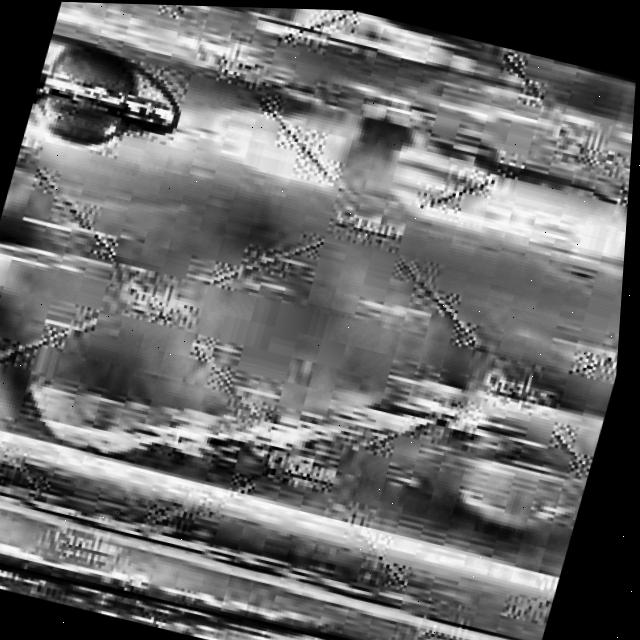door_dent: (0, 150, 630, 582)
door_scratch: (14, 296, 534, 554)
